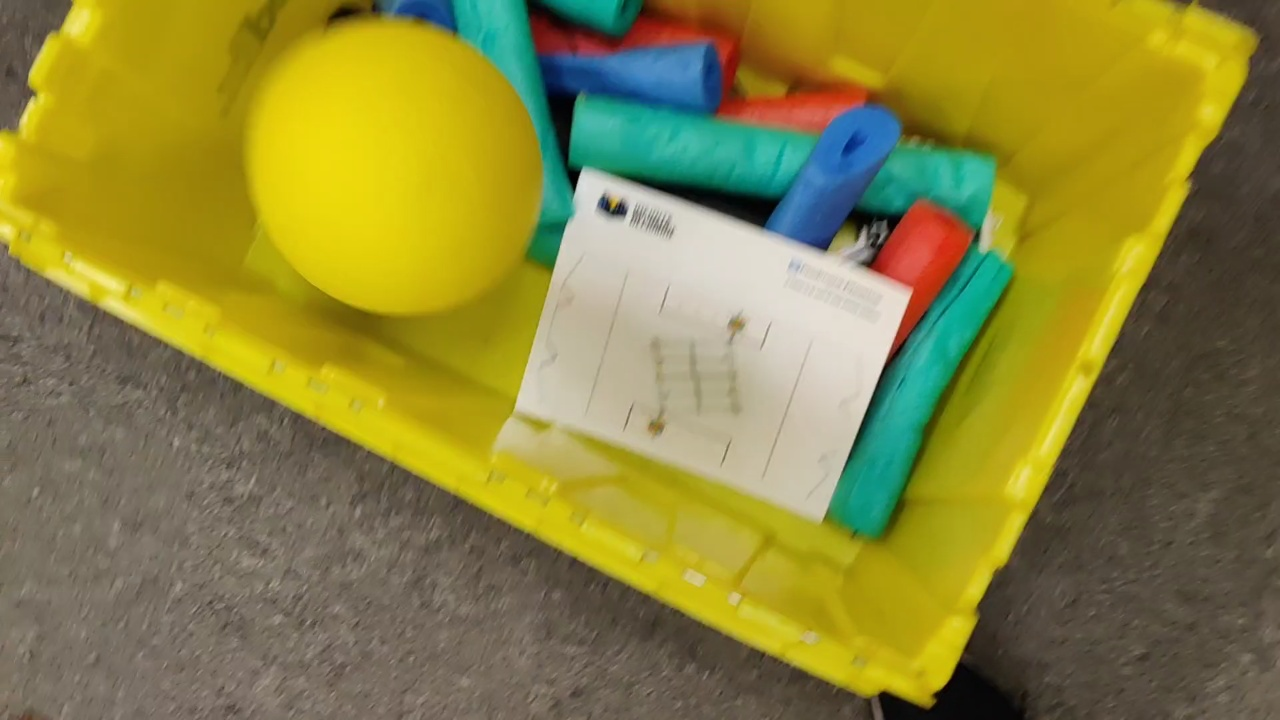Ball: (239, 25, 545, 311)
